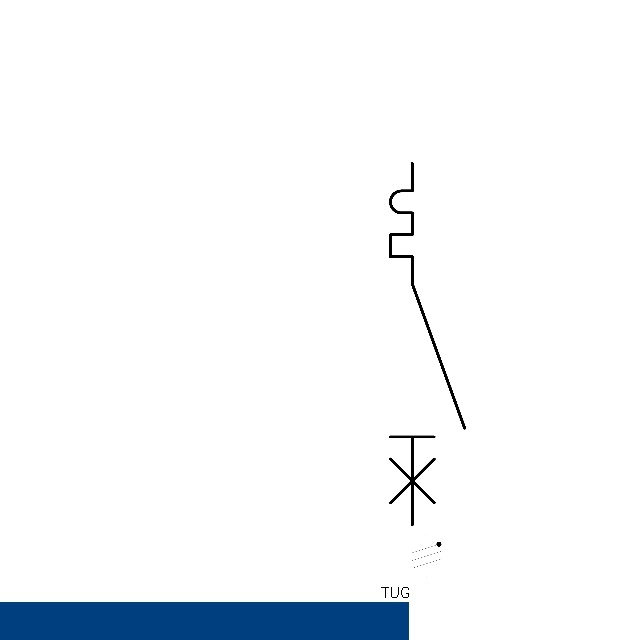interruptor_termomagnetico: (381, 154, 474, 534)
